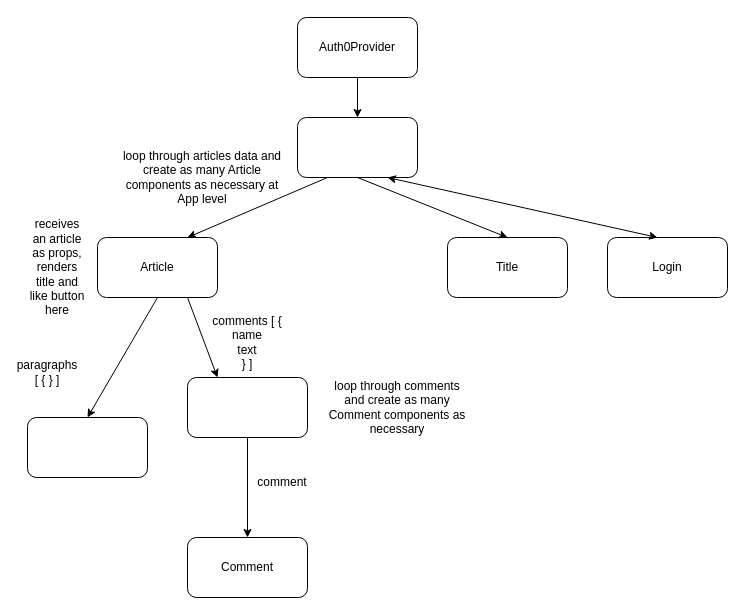
The diagram is 745 pixels wide and 615 high, and some of its shapes have lost their labels. The box of each missing label's shape, as (x1, y1, x2, y2) in pixels:
App: (296, 116, 418, 178)
Comments: (186, 376, 308, 438)
Content: (26, 416, 148, 478)
